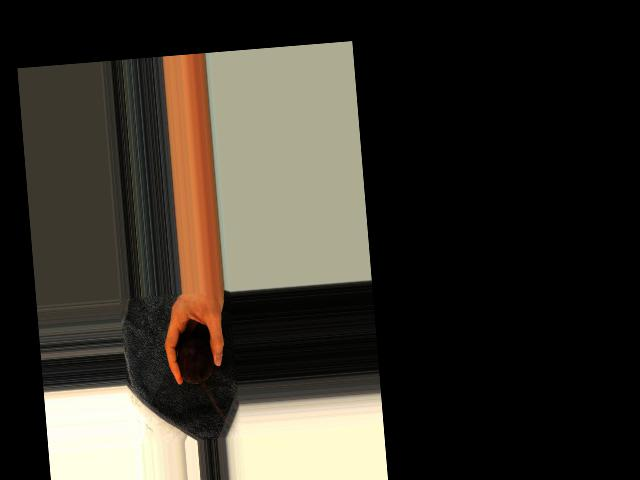beet: (176, 336, 215, 384)
